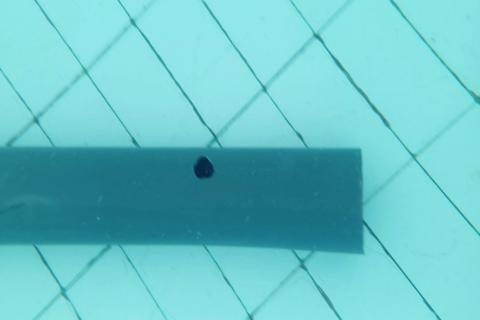kebocoran: (192, 156, 213, 180)
keretakan: (0, 199, 26, 221)
